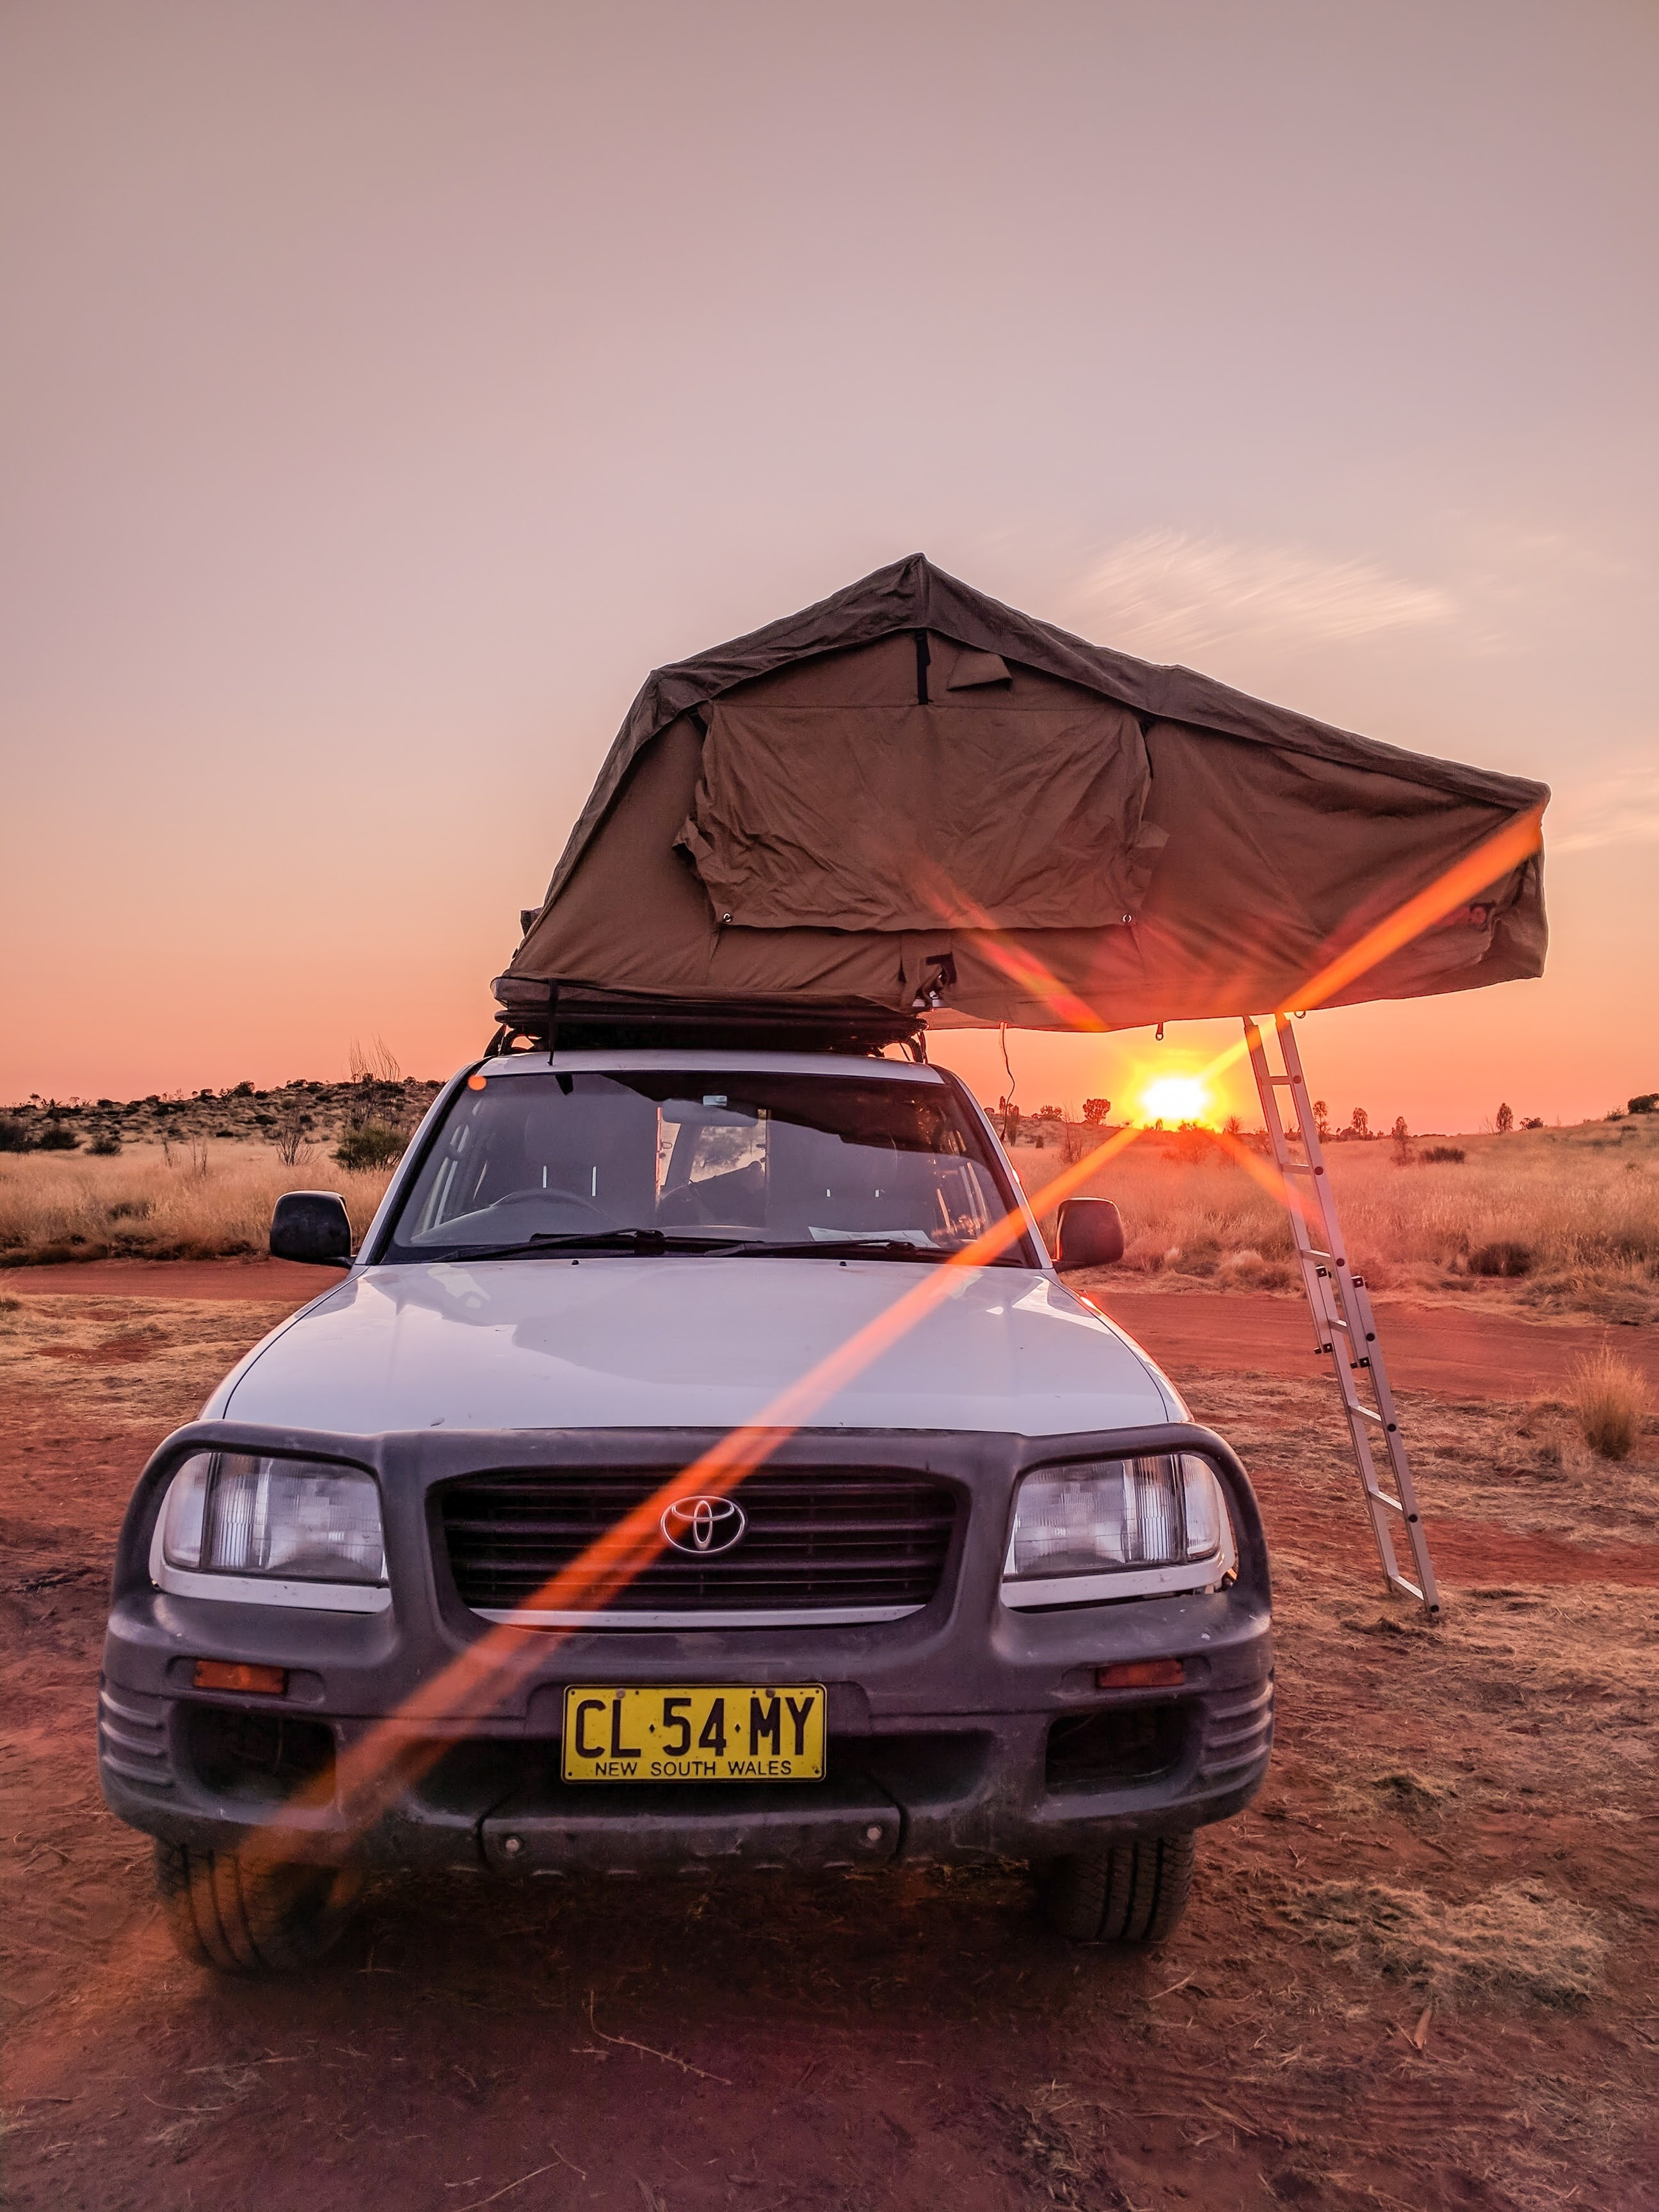plaka: (556, 1681, 829, 1782)
